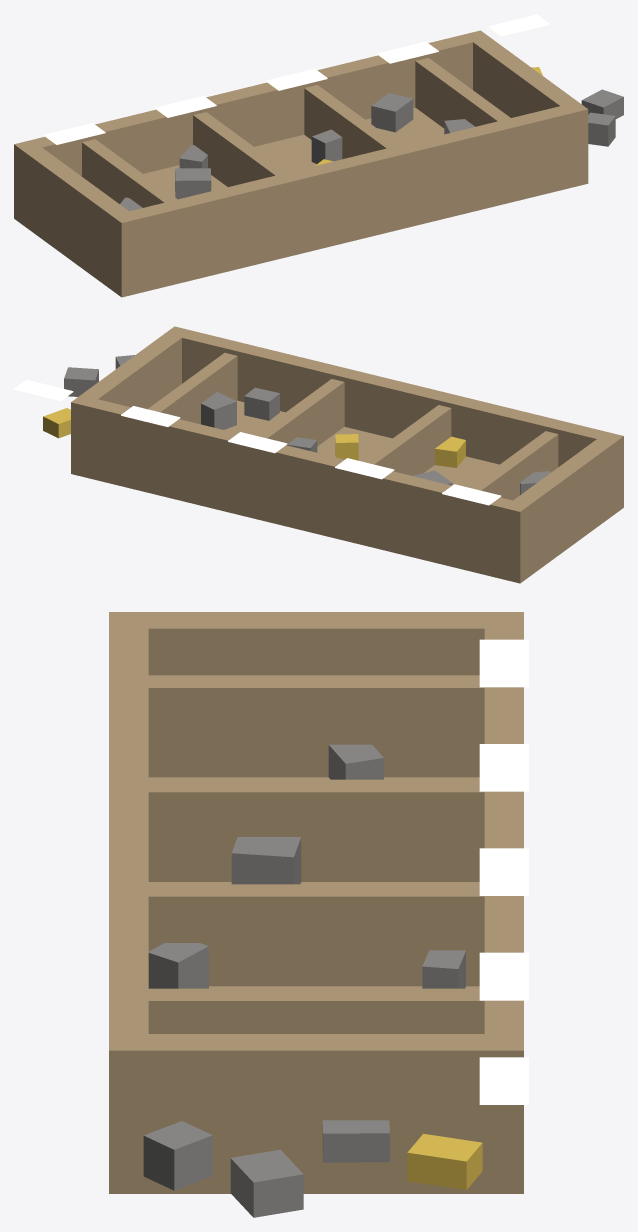
File: underground-mine-and-shaft-works-ore-sample-tray-69d90386.glb
The picture shows the model from 3 angles, top to bottom: view 1: azimuth 30°, elevation 25°; view 2: azimuth 150°, elevation 25°; view 3: azimuth 270°, elevation 25°; orthographic projection. The views are drawn at different scales.
Visible parts, largest first — view 1: ore-sample-tray; view 2: ore-sample-tray; view 3: ore-sample-tray.
Boxes of the visible parts, x1=… form: ore-sample-tray: x1=14, y1=14, x2=623, y2=297; ore-sample-tray: x1=14, y1=326, x2=623, y2=583; ore-sample-tray: x1=109, y1=612, x2=528, y2=1217.
Size of the model in its own units: 1.21 by 0.162 by 0.425.
